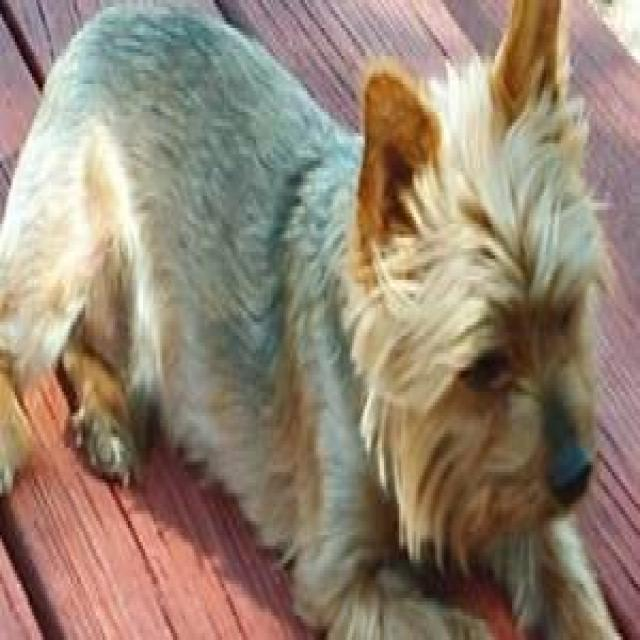dog-yorkshire_terrier: (2, 3, 619, 633)
